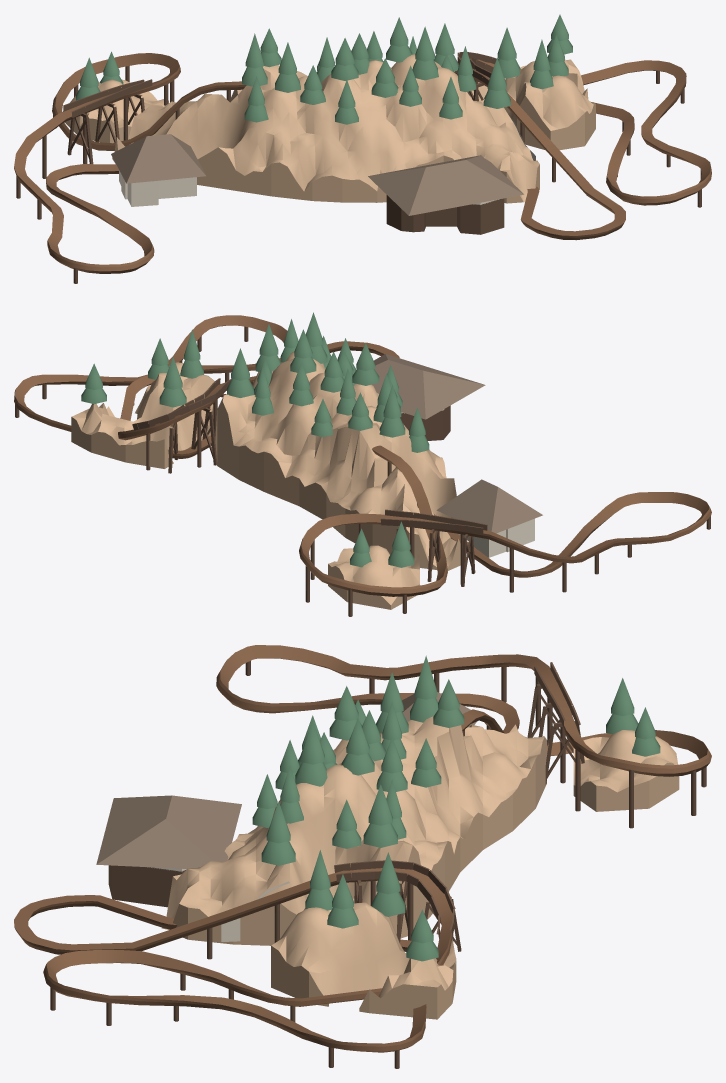
Rendered from wdw-seven-dwarfs-mine-train.glb.
3 renders of one model, top to bottom at view 1: azimuth 30°, elevation 25°; view 2: azimuth 150°, elevation 25°; view 3: azimuth 270°, elevation 25°, orthographic. The views are drawn at different scales.
Visible parts, largest first — view 1: Seven Dwarfs Mine Train; view 2: Seven Dwarfs Mine Train; view 3: Seven Dwarfs Mine Train.
Boxes of the visible parts, x1=… form: Seven Dwarfs Mine Train: x1=14, y1=14, x2=711, y2=283; Seven Dwarfs Mine Train: x1=14, y1=312, x2=711, y2=616; Seven Dwarfs Mine Train: x1=14, y1=645, x2=711, y2=1068.
Bounding box in the file's own units: 126 × 26.92 × 92.32.
